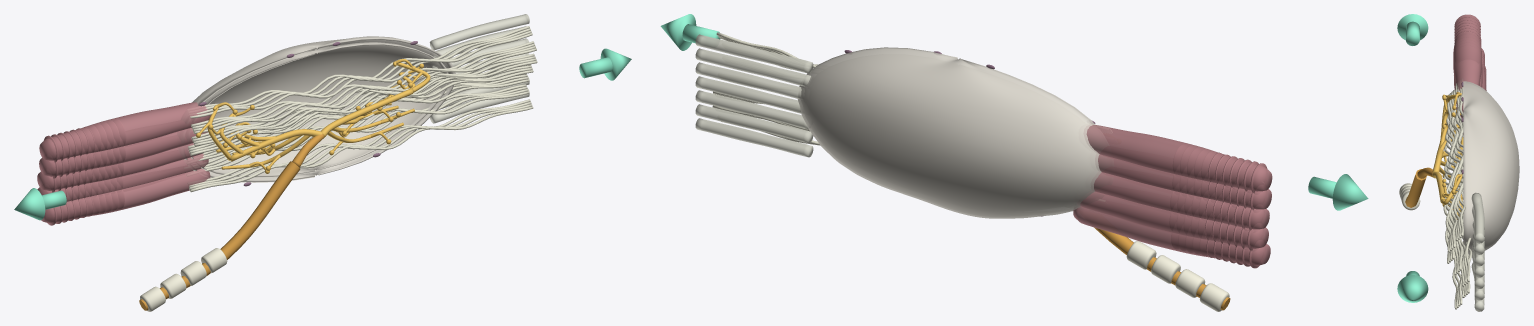
Rendered from golgi-tendon-Df8og6qL.glb.
3 views of the same model, side by side, from view 1: azimuth 30°, elevation 25°; view 2: azimuth 150°, elevation 25°; view 3: azimuth 270°, elevation 25° (orthographic). The views are drawn at different scales.
Parts seen in each view (by area): view 1: golgi-tendon__collagen__01, golgi-tendon__capsule__01, golgi-tendon__muscle-context__01, golgi-tendon__ib-ending__02, golgi-tendon__tendon-context__01, golgi-tendon__axon__01, golgi-tendon__myelin__01, golgi-tendon__stimulus-left__02, golgi-tendon__stimulus-right__01, golgi-tendon__stimulus-right__02; view 2: golgi-tendon__capsule__01, golgi-tendon__muscle-context__01, golgi-tendon__tendon-context__01, golgi-tendon__myelin__01, golgi-tendon__collagen__01, golgi-tendon__stimulus-left__02, golgi-tendon__axon__01, golgi-tendon__stimulus-right__02; view 3: golgi-tendon__capsule__01, golgi-tendon__collagen__01, golgi-tendon__muscle-context__01, golgi-tendon__tendon-context__01, golgi-tendon__ib-ending__02, golgi-tendon__stimulus-right__02, golgi-tendon__stimulus-left__02, golgi-tendon__axon__01, golgi-tendon__stimulus-left__01, golgi-tendon__myelin__01, golgi-tendon__ib-ending__01.
Boxes of the visible parts, box(x1,y1,x2,y2) form: golgi-tendon__collagen__01: box(185, 26, 537, 192); golgi-tendon__capsule__01: box(178, 36, 455, 182); golgi-tendon__muscle-context__01: box(37, 102, 210, 225); golgi-tendon__ib-ending__02: box(196, 58, 430, 173); golgi-tendon__tendon-context__01: box(429, 14, 529, 123); golgi-tendon__axon__01: box(139, 161, 300, 310); golgi-tendon__myelin__01: box(140, 248, 227, 311); golgi-tendon__stimulus-left__02: box(14, 188, 45, 220); golgi-tendon__stimulus-right__01: box(579, 57, 612, 78); golgi-tendon__stimulus-right__02: box(600, 48, 631, 80); golgi-tendon__capsule__01: box(797, 47, 1113, 218); golgi-tendon__muscle-context__01: box(1073, 125, 1272, 268); golgi-tendon__tendon-context__01: box(695, 34, 813, 157); golgi-tendon__myelin__01: box(1126, 241, 1229, 311); golgi-tendon__collagen__01: box(712, 32, 1112, 201); golgi-tendon__stimulus-left__02: box(1332, 174, 1368, 210); golgi-tendon__axon__01: box(1094, 227, 1230, 310); golgi-tendon__stimulus-right__02: box(660, 14, 696, 50); golgi-tendon__capsule__01: box(1463, 81, 1519, 254); golgi-tendon__collagen__01: box(1443, 79, 1472, 309); golgi-tendon__muscle-context__01: box(1453, 14, 1486, 154); golgi-tendon__tendon-context__01: box(1471, 192, 1484, 311); golgi-tendon__ib-ending__02: box(1432, 92, 1463, 219); golgi-tendon__stimulus-right__02: box(1397, 275, 1428, 302); golgi-tendon__stimulus-left__02: box(1397, 14, 1428, 40); golgi-tendon__axon__01: box(1405, 169, 1426, 207); golgi-tendon__stimulus-left__01: box(1406, 21, 1419, 45); golgi-tendon__myelin__01: box(1399, 183, 1420, 210); golgi-tendon__ib-ending__01: box(1417, 167, 1433, 178).
Bounding box in the file's own units: 4.3 × 1.29 × 0.7881.
